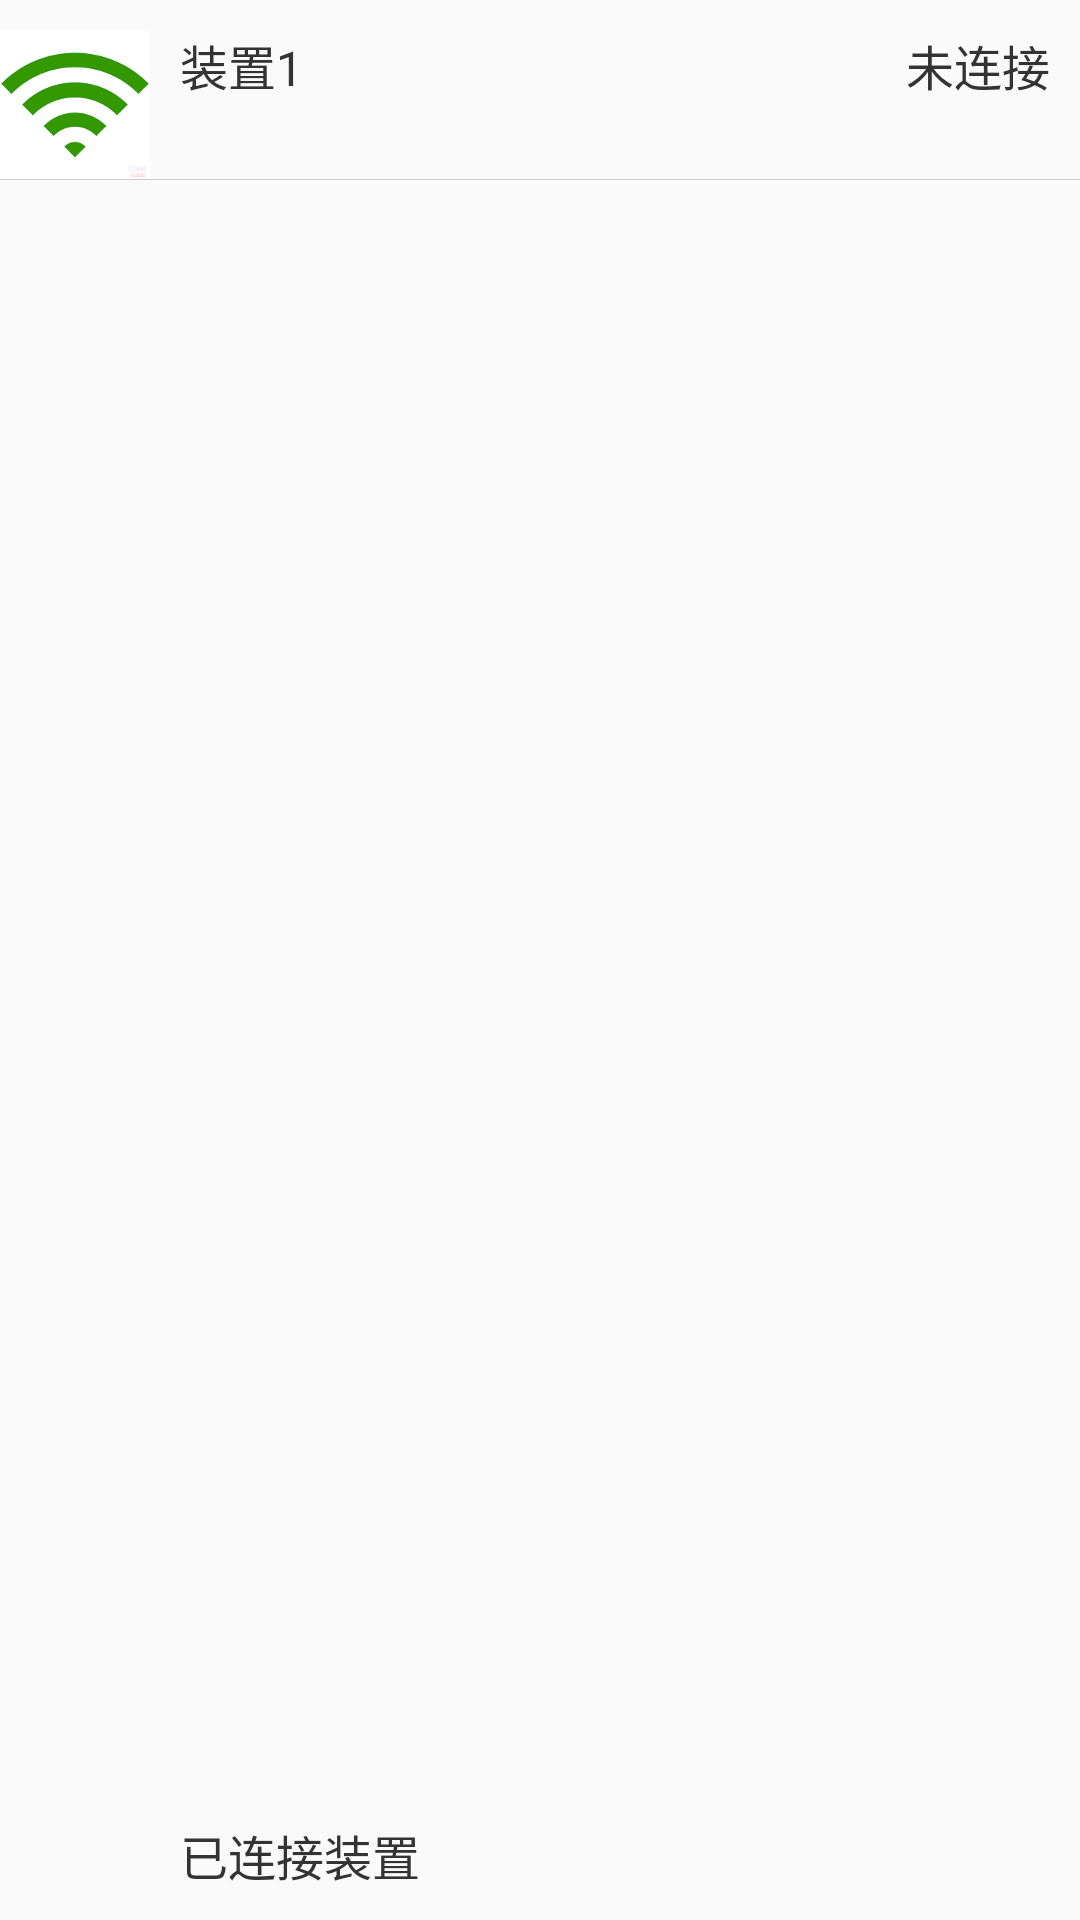

Icon click points for this 1080×1920 phone screenshot, format (x=x, y=y):
wifi: (x=75, y=114)
